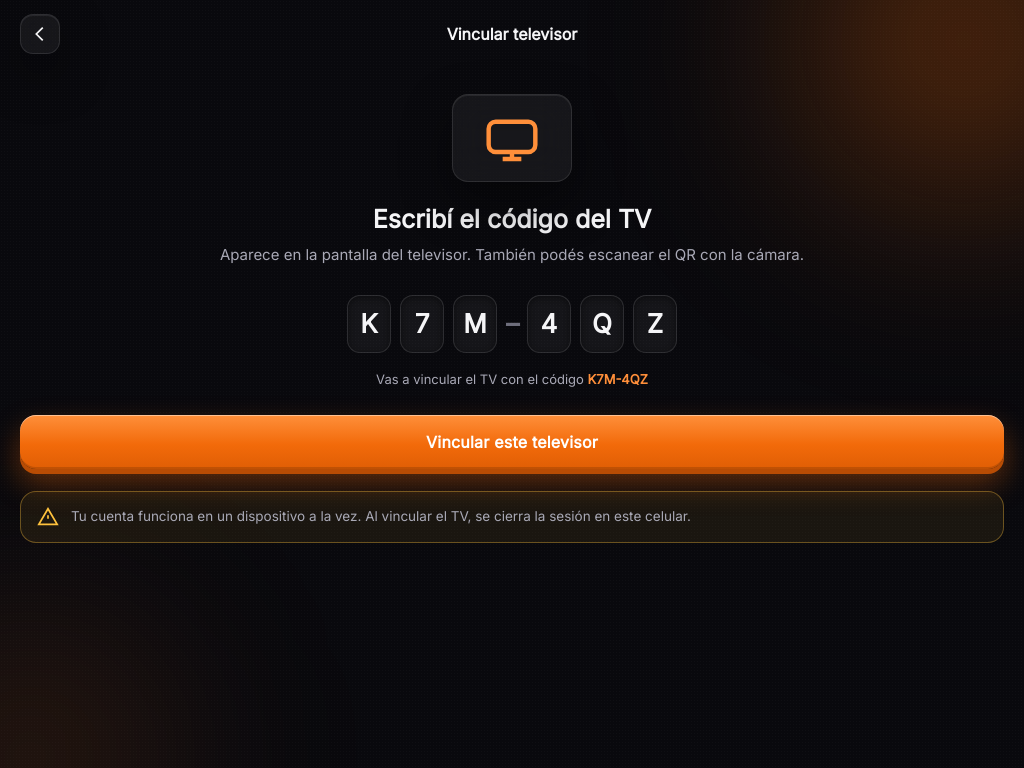
Test: código vencido
What coordinates should you click on to do the following:
click the button "Vincular este televisor"
I would click on:
 (512, 442)
Its box is x1=20 y1=414 x2=1004 y2=468.
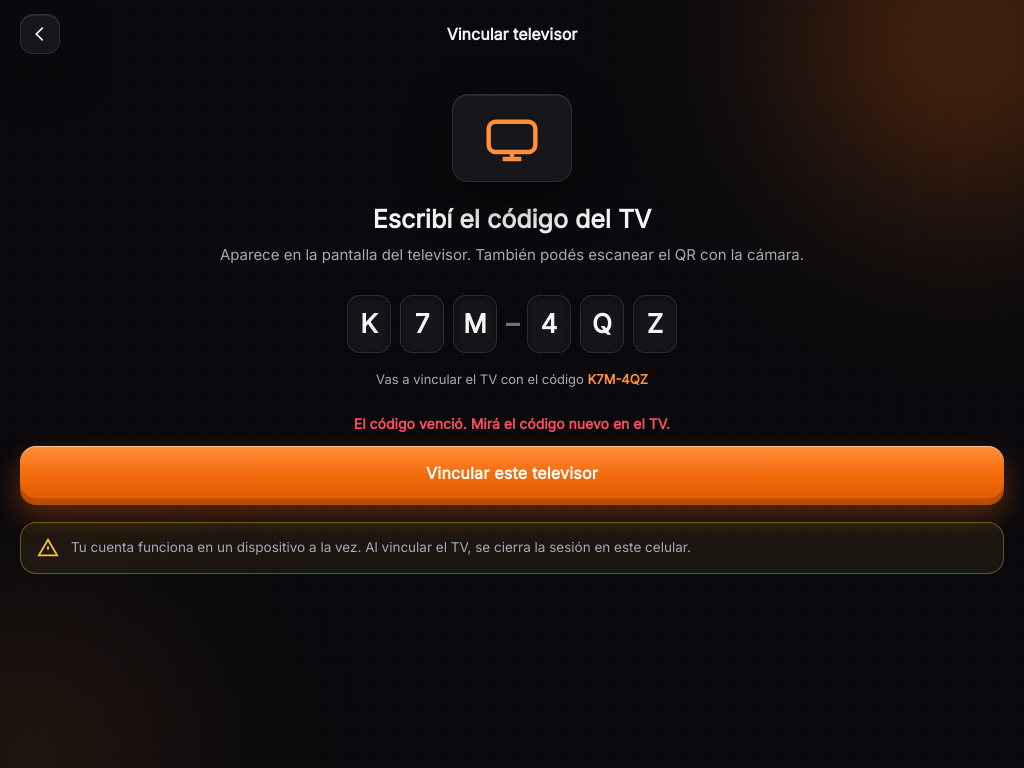
Now the text "El código venció. Mirá el código nuevo en el TV." is shown, box x1=354 y1=414 x2=670 y2=432
